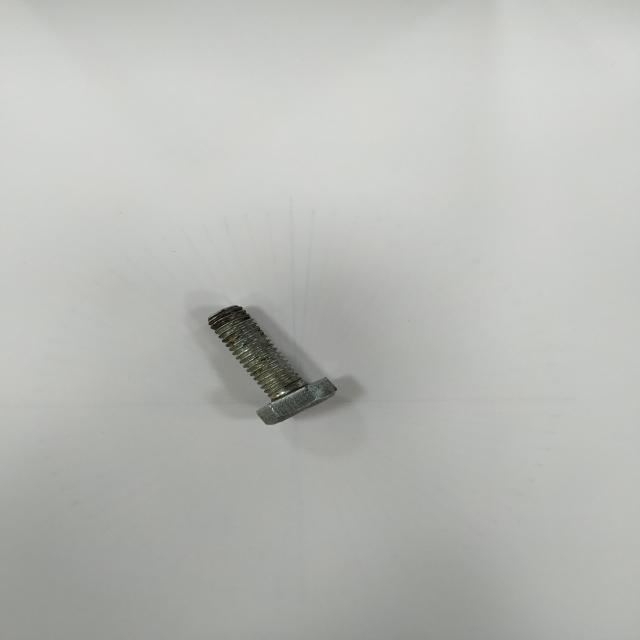Bolt: (208, 306, 337, 425)
